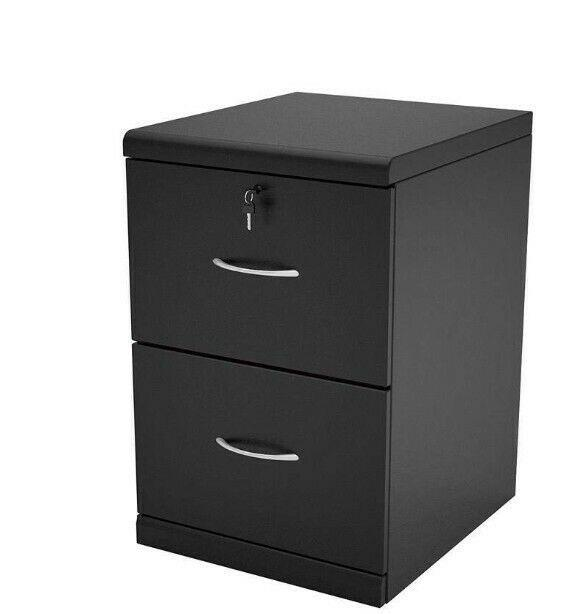cabinet_door: (135, 172, 388, 370), (137, 365, 385, 540)
handle: (213, 428, 305, 474), (208, 249, 304, 292)
